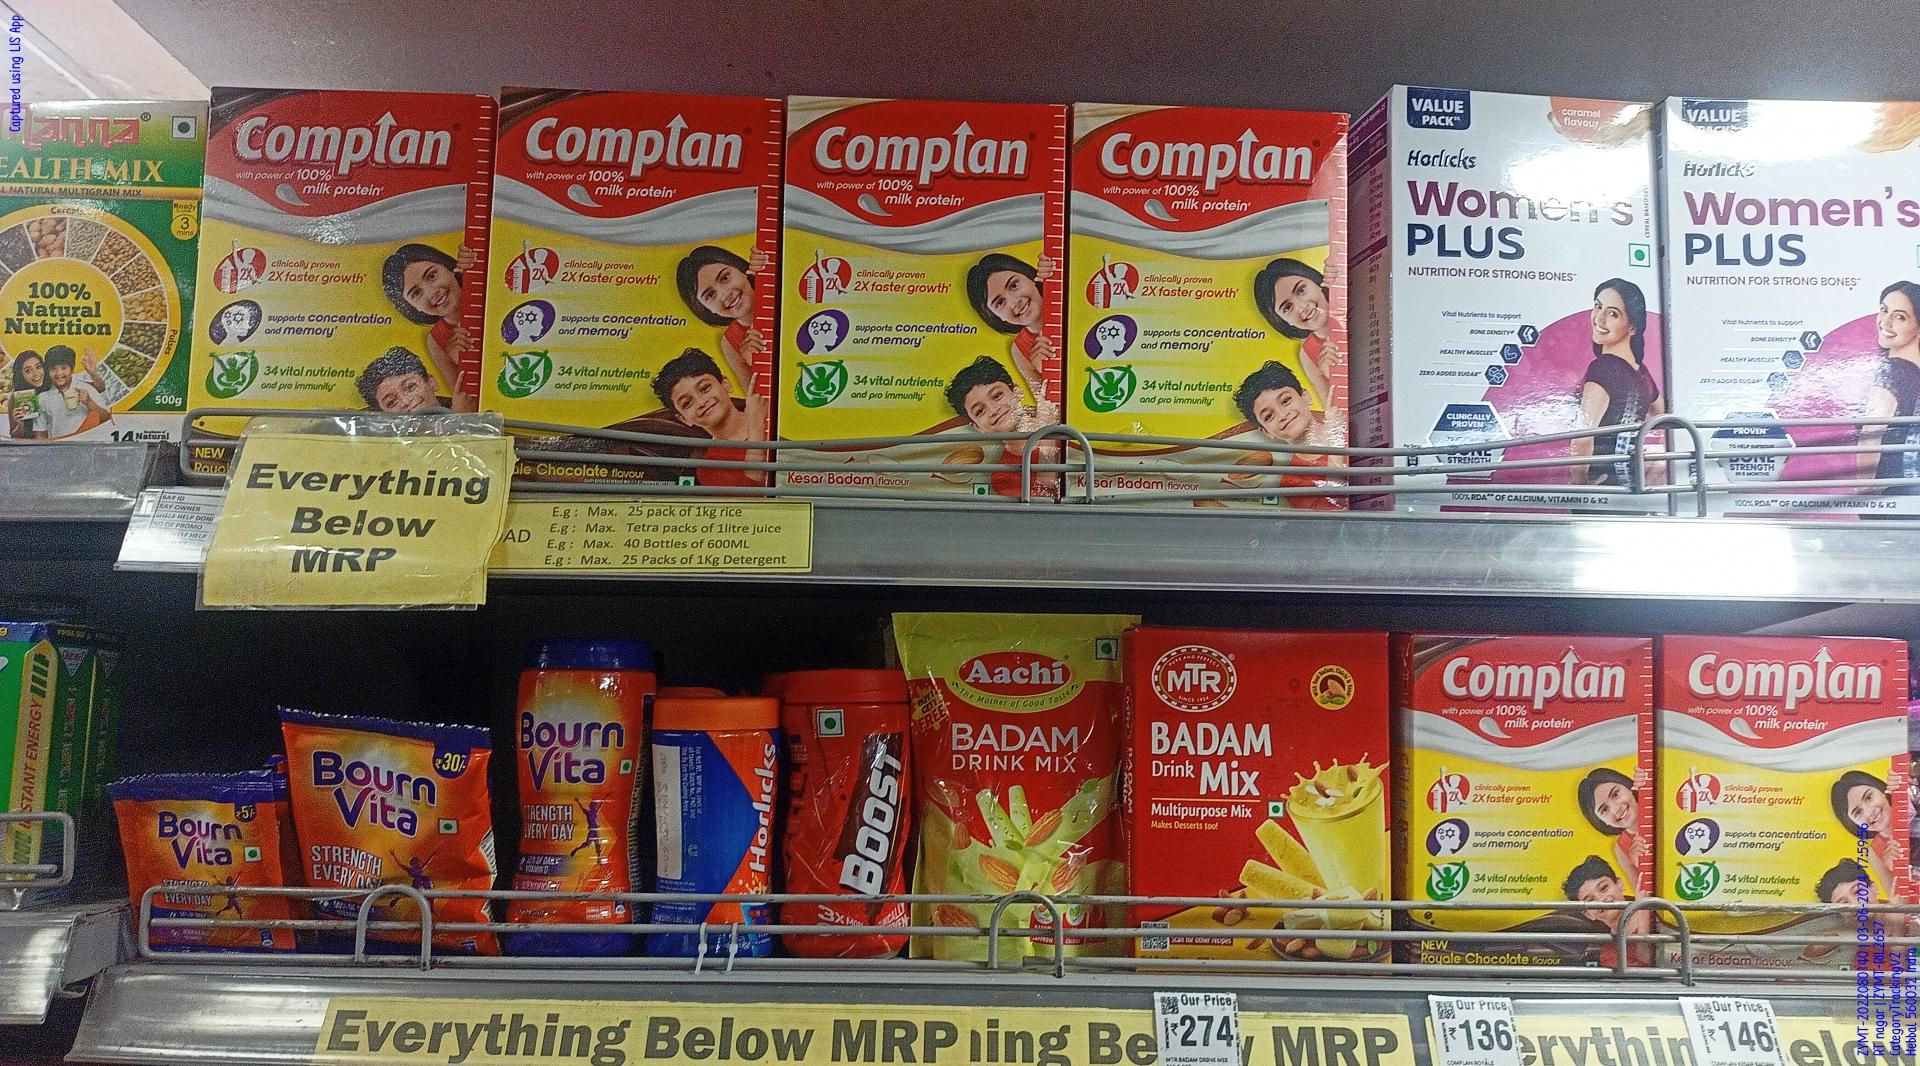BOURN_VITA_500_G_JAR: (513, 646, 642, 960)
BOURN_VITA_75_G_POUCH: (301, 714, 496, 954)
COMPLAN_CHOCOLATE_500_GMS_PACK: (495, 87, 774, 488), (206, 85, 478, 420)
COMPLAN_KESAR_BADAM_500_GMS_PACK: (1075, 101, 1360, 513), (790, 101, 1062, 516), (1661, 634, 1912, 982)
